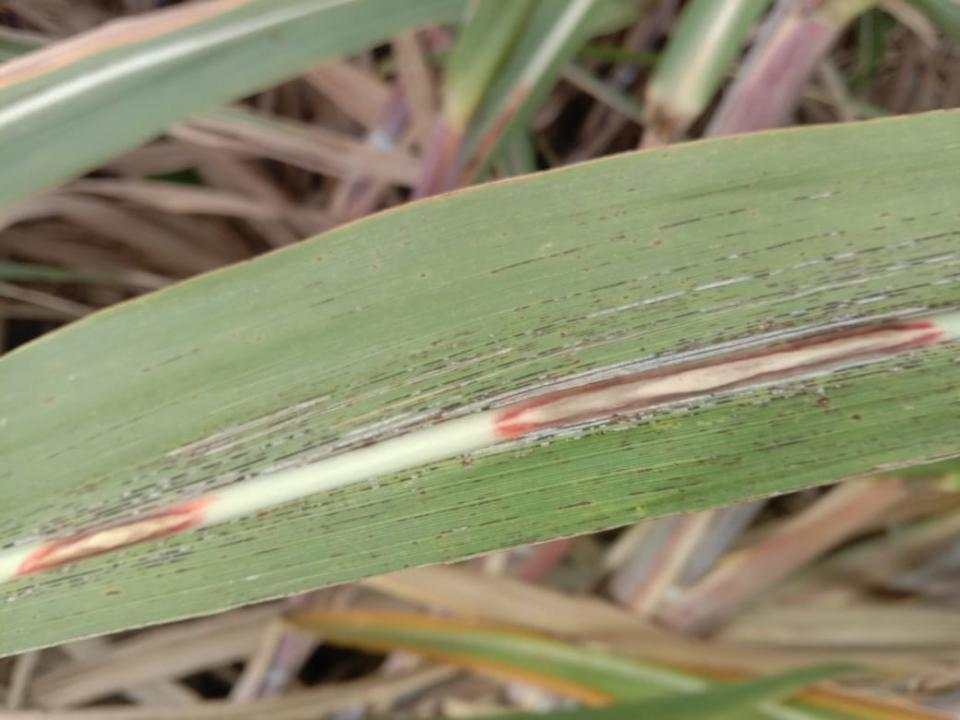RedRot: (490, 320, 947, 438), (15, 495, 218, 575)
Rust: (2, 207, 959, 552), (1, 335, 959, 603), (311, 449, 749, 537), (485, 187, 847, 278), (450, 493, 707, 559), (473, 478, 705, 529)
